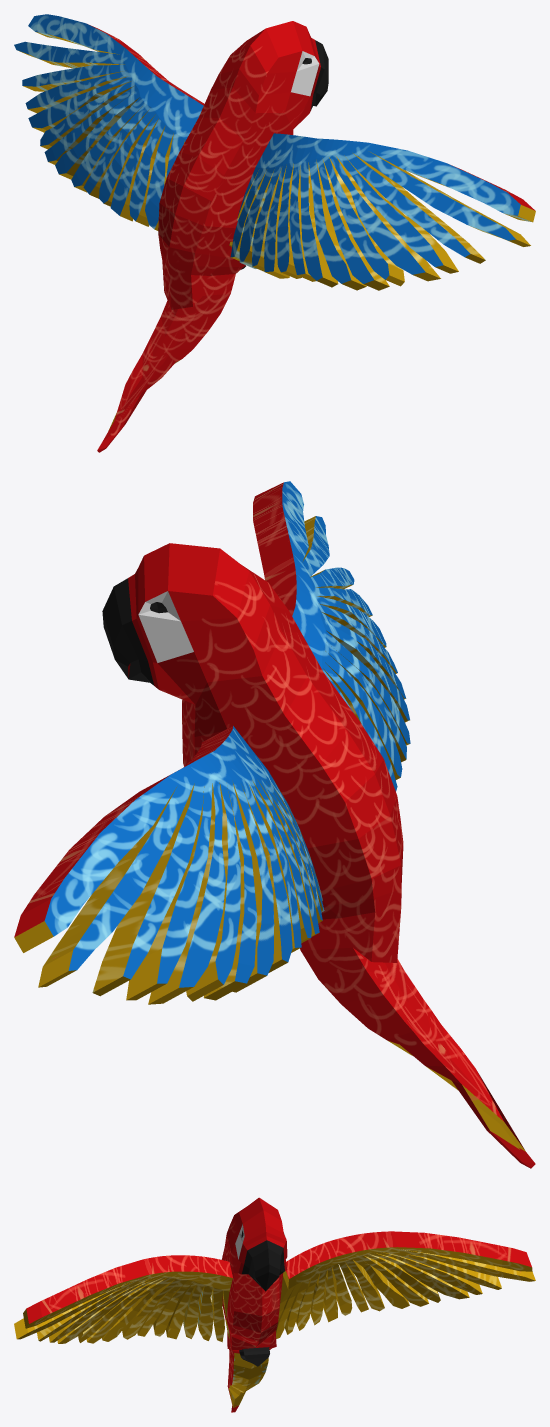
The model's file is bird.fbx.
3 renders of one model, top to bottom at view 1: azimuth 30°, elevation 25°; view 2: azimuth 150°, elevation 25°; view 3: azimuth 270°, elevation 25°, orthographic. The views are drawn at different scales.
Visible parts, largest first — view 1: Cube.002, Cube.001; view 2: Cube.002, Cube.001; view 3: Cube.002, Cube.001.
Boxes of the visible parts, <box> form: Cube.002: <box>14,14,535,290</box>; Cube.001: <box>97,21,328,452</box>; Cube.002: <box>14,481,410,1004</box>; Cube.001: <box>102,543,535,1168</box>; Cube.002: <box>14,1231,535,1343</box>; Cube.001: <box>221,1197,287,1412</box>.
Size of the model in its own units: 313 by 356 by 592.
5 materials, 3 textured.
